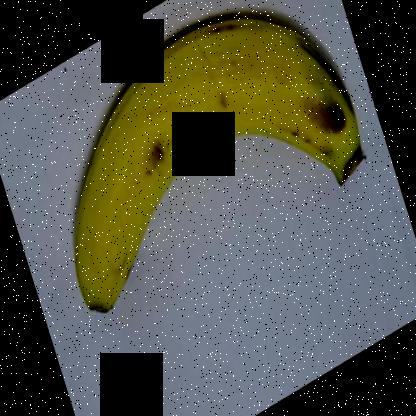freshripe: (71, 1, 372, 326)
